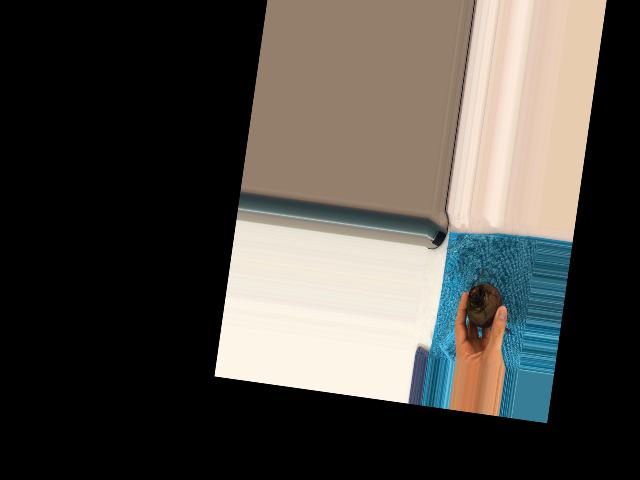beet: (464, 267, 521, 334)
